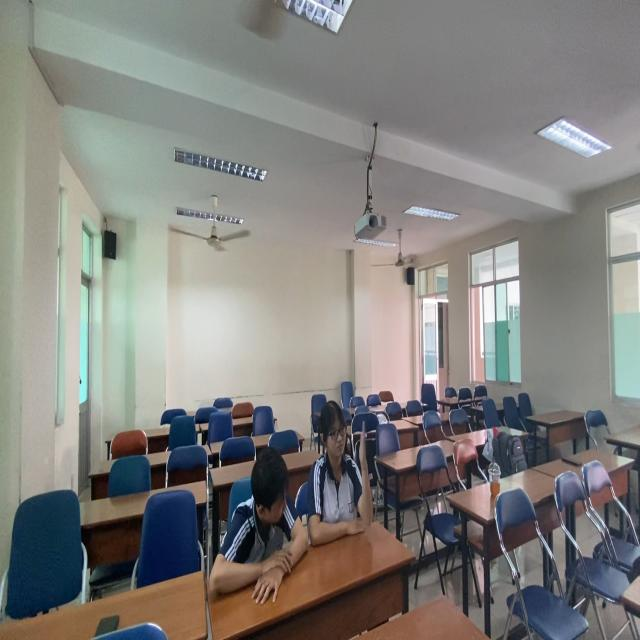raise_hand: (313, 398, 378, 564)
